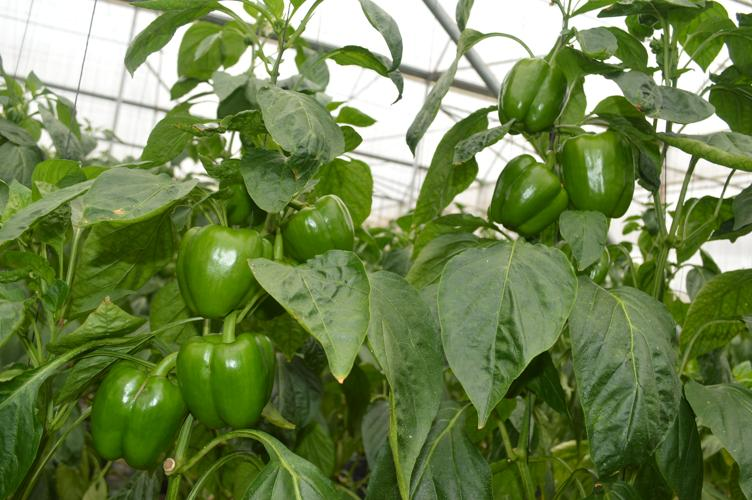BellPepper: (85, 357, 192, 470), (169, 220, 270, 333), (177, 331, 279, 429), (478, 149, 572, 255), (562, 121, 646, 230), (495, 49, 571, 134), (281, 196, 362, 266)
